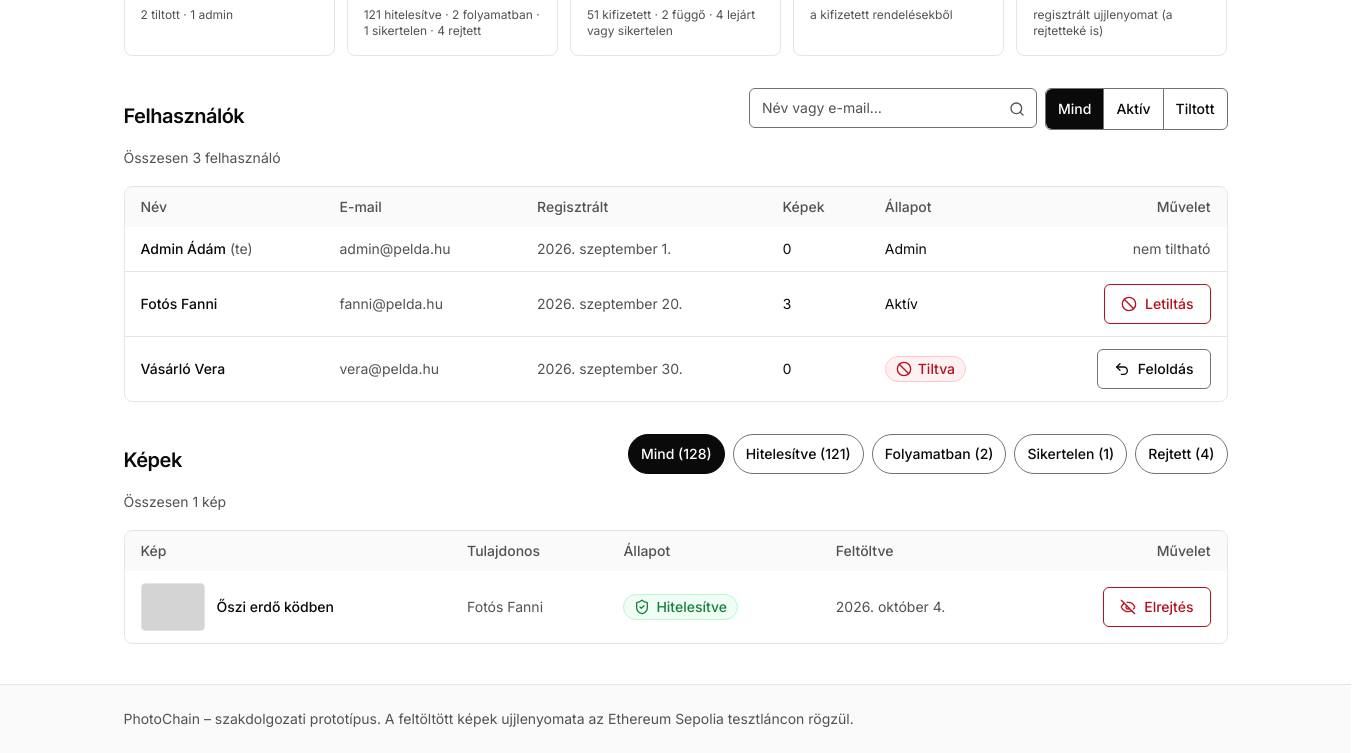
Scenario: AdminPage – képek moderálása és újrapróbálás › az elrejtés hibája (409 – közben a tulajdonos vette le): a hiba az ablakban, a lista frissül; Mégse zárja, a fókusz a kép címére kerül
(page scrolled)
Expected: the text "Összesen 1 kép" is shown, left=124, top=493, right=226, bottom=510
Click the button named "Elrejtés: Őszi erdő ködben": [1157, 607] box left=1103, top=587, right=1210, bottom=627
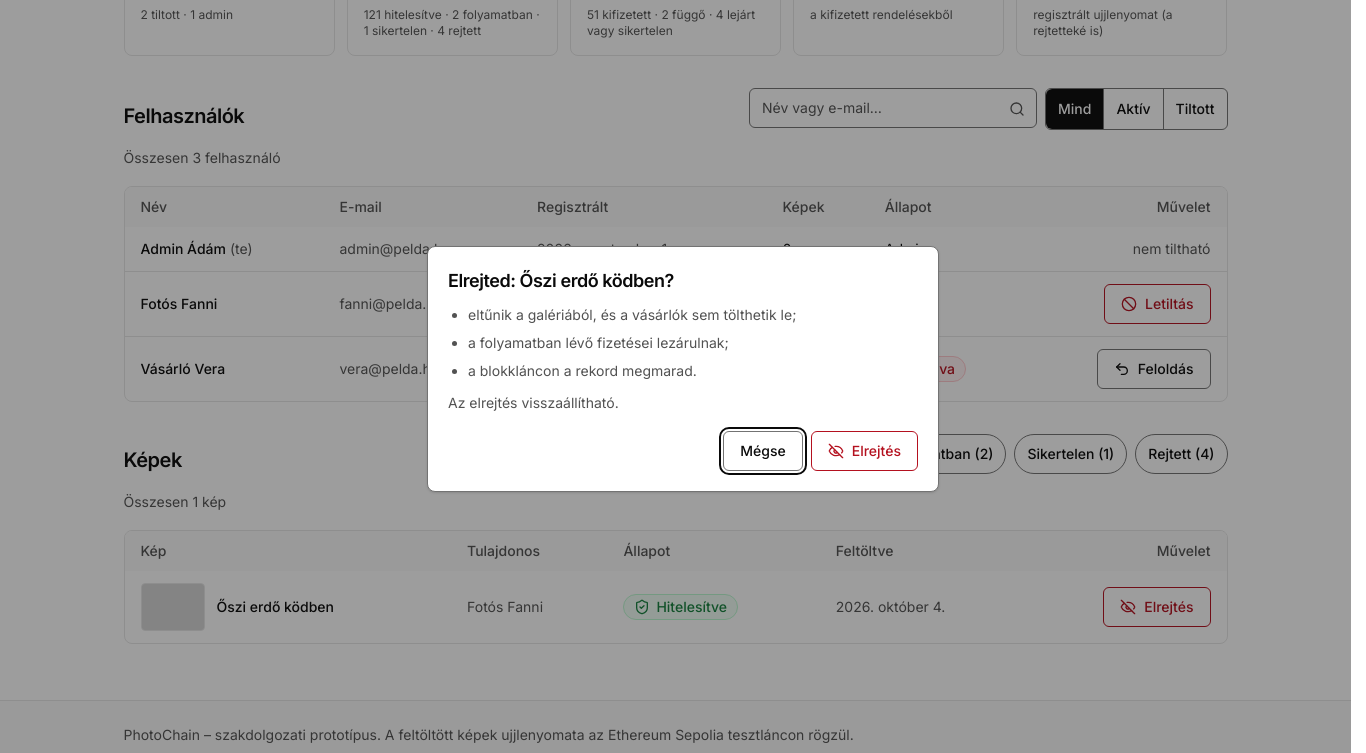
Click the button "Elrejtés": [864, 451] box left=811, top=431, right=918, bottom=471
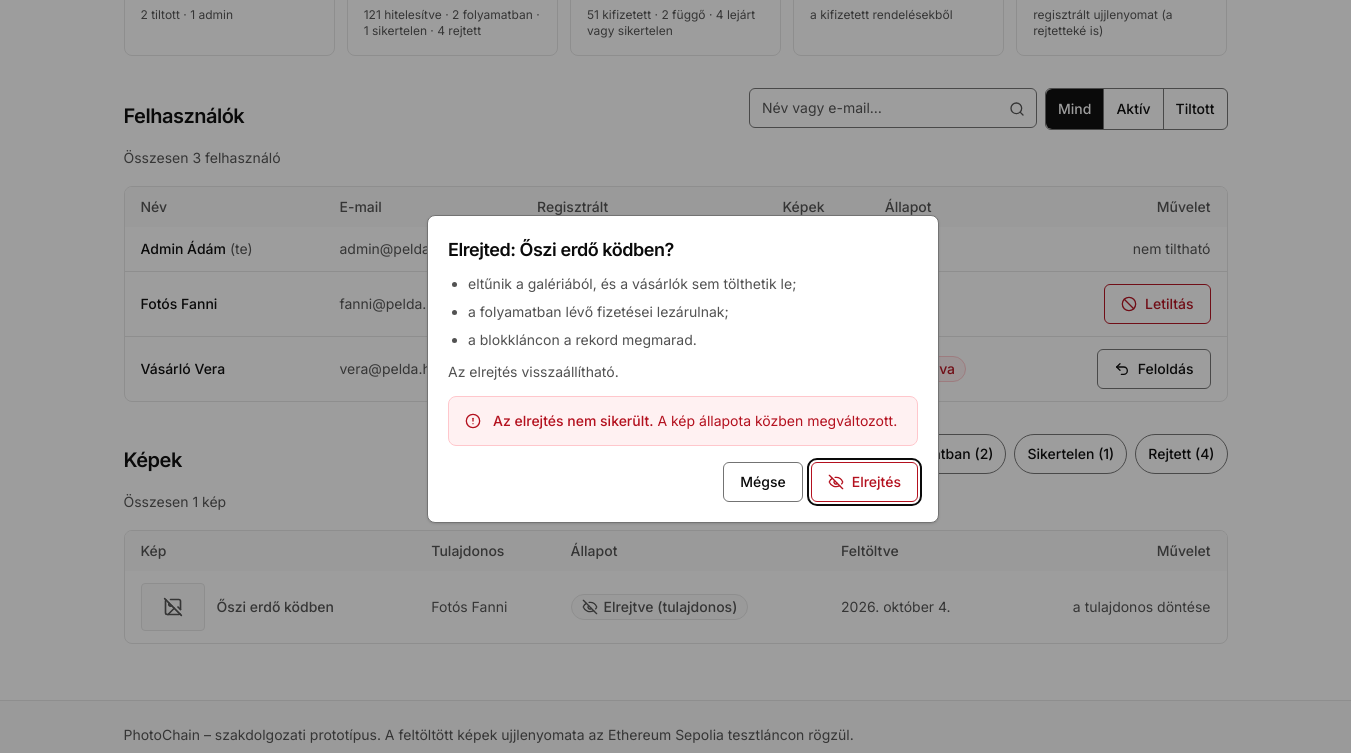
Now the message reads "Az elrejtés nem sikerült. A kép állapota közben megváltozott.", box left=448, top=396, right=918, bottom=446
Now the text "a tulajdonos döntése" is shown, box left=1073, top=598, right=1210, bottom=615
Click the button "Mégse": [763, 482] box left=723, top=462, right=803, bottom=502
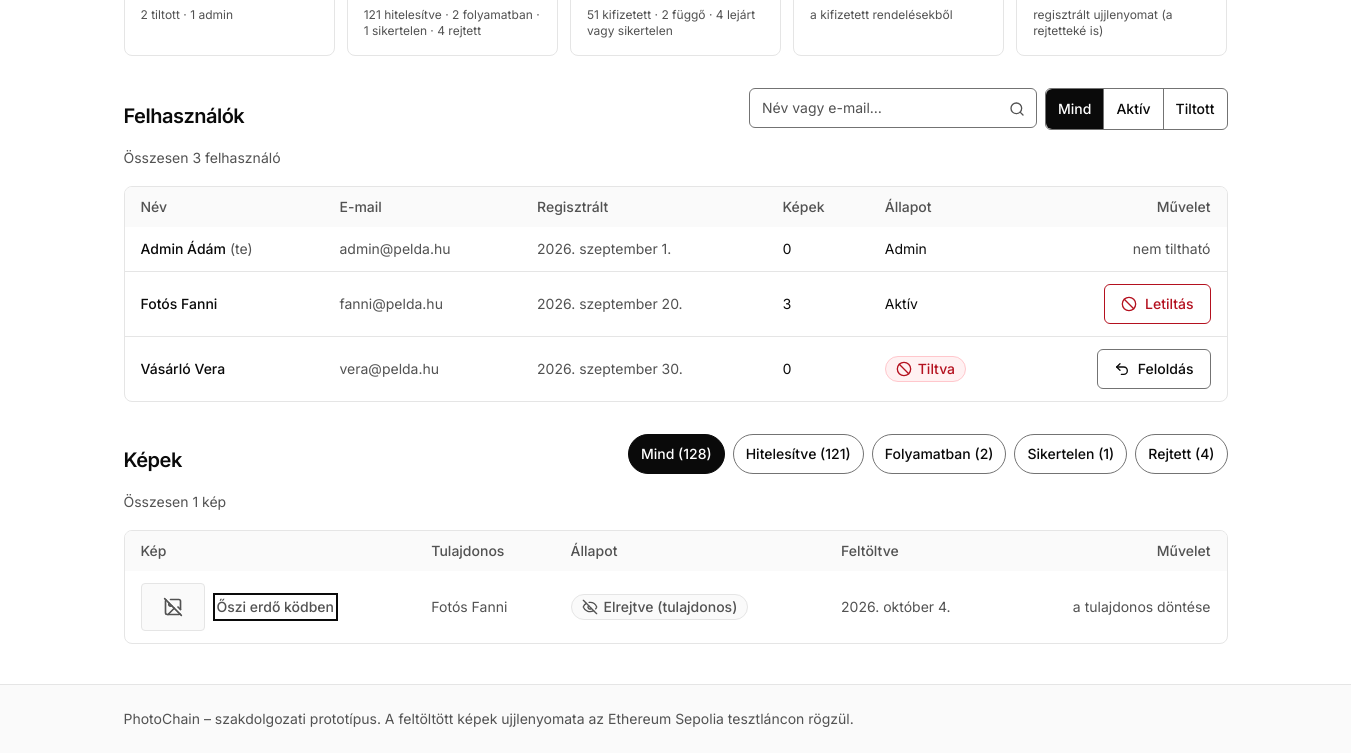
Now the dialog is gone
